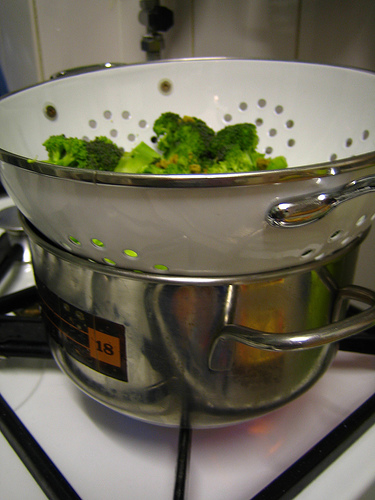broccoli: (42, 111, 291, 173)
